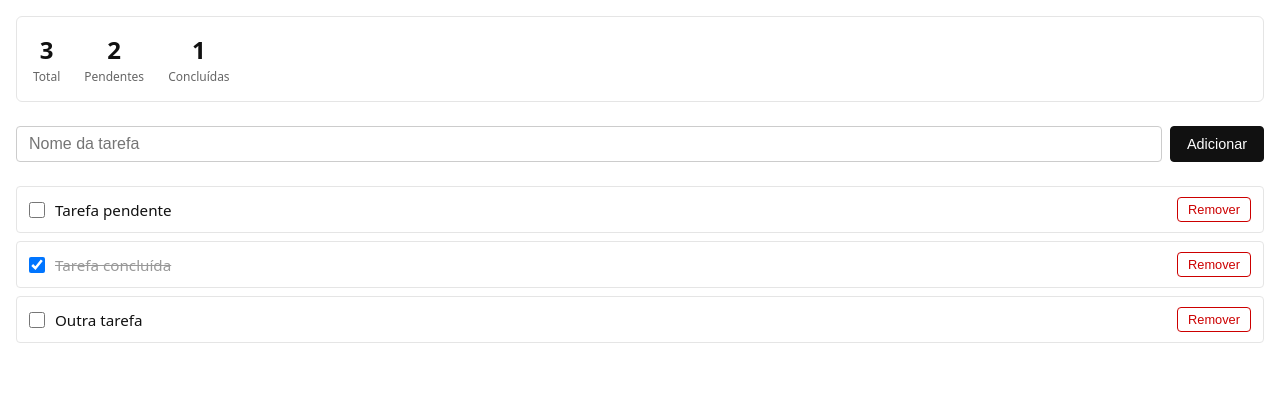
Test: ListaTarefas › Adicionar tarefa › adiciona nova tarefa à lista
Type "Nova tarefa" into the field named "nome da nova tarefa" at x=589, y=144, box [16,126,1162,162]
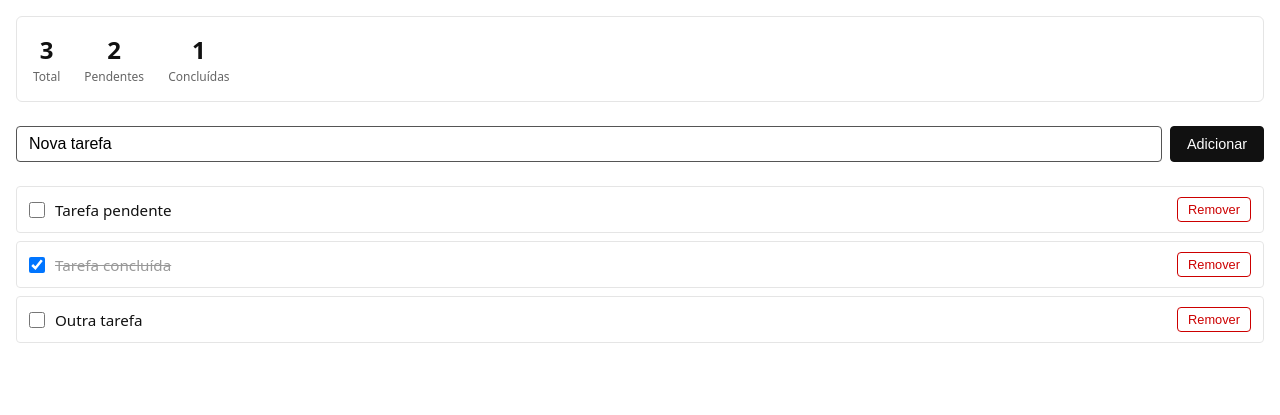
Submit the form named "nome da nova tarefa", box [16,126,1264,162]
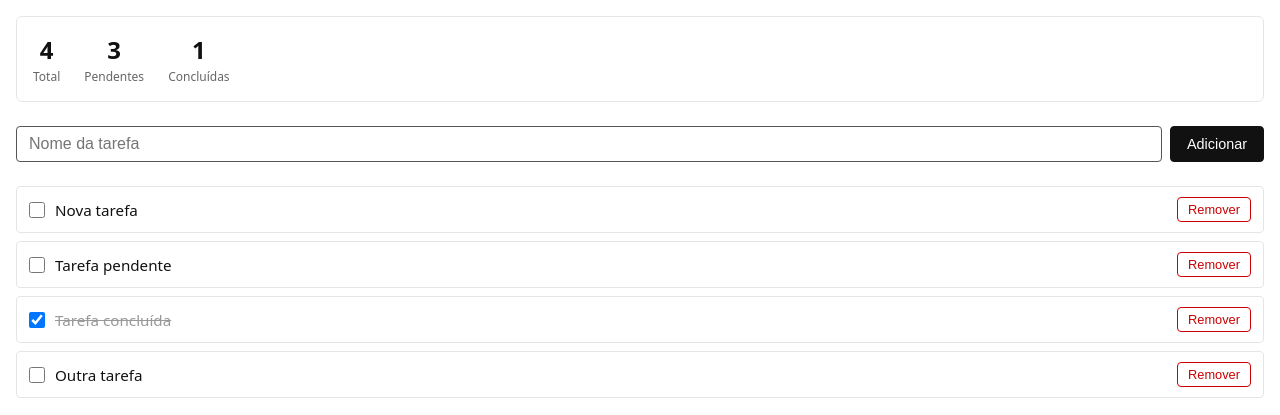
Now the text "Nova tarefa" is shown, box [55,200,138,220]
